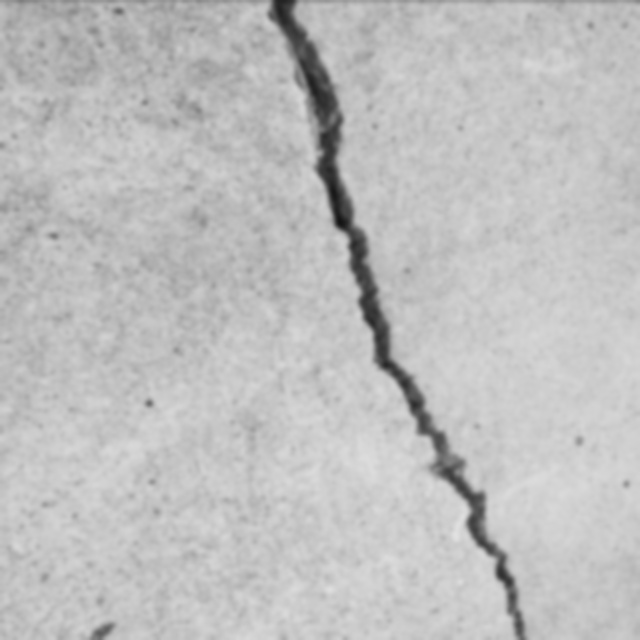SurfaceCrack: (220, 1, 630, 640)
